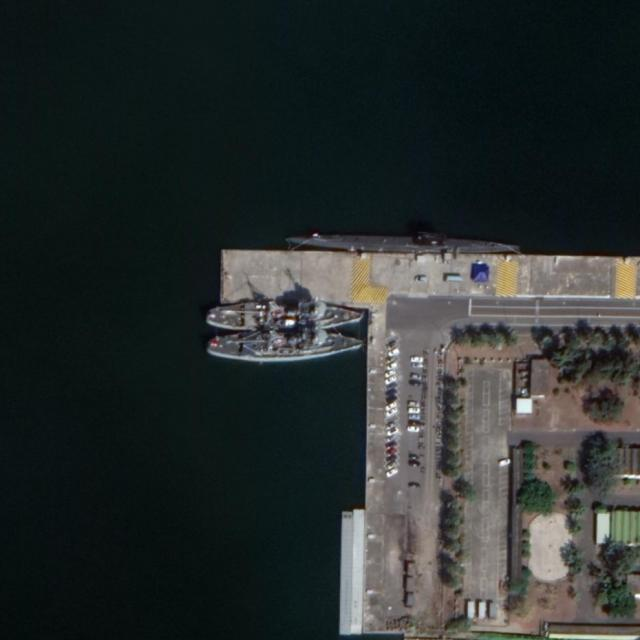Other Warship: (206, 333, 365, 363), (206, 302, 365, 332)
Submarine: (286, 228, 520, 255)
